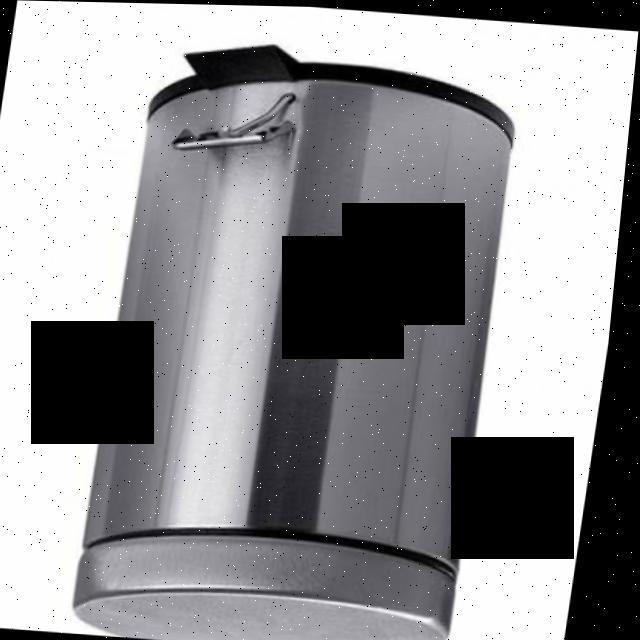bin: (35, 24, 579, 640)
